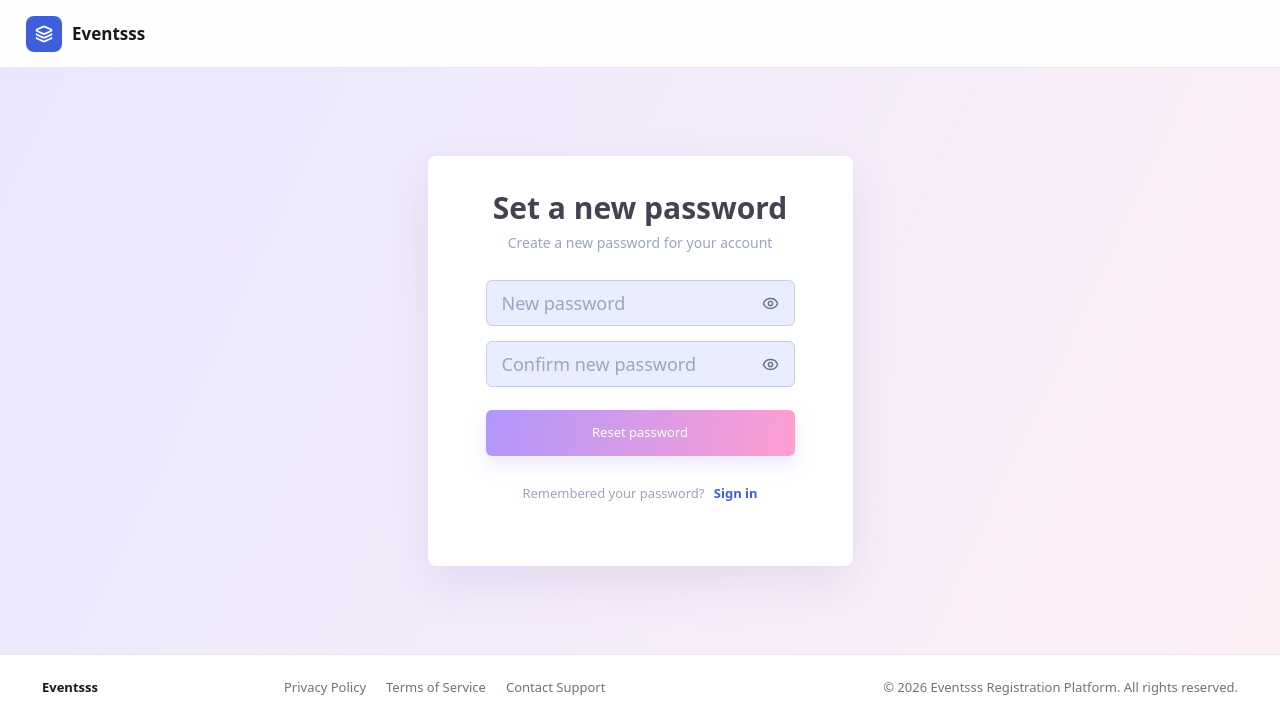
Scenario: Account Sign-up, Recovery and Role Selection › AUTH-005 resets the password from a valid link and rejects an expired one
Type "NewPassword123!" into the password field with id "new-password" at {"x": 641, "y": 303}, box [486,280,795,326]
Type "NewPassword123!" into the password field with id "confirm-new-password" at {"x": 641, "y": 364}, box [486,341,795,387]
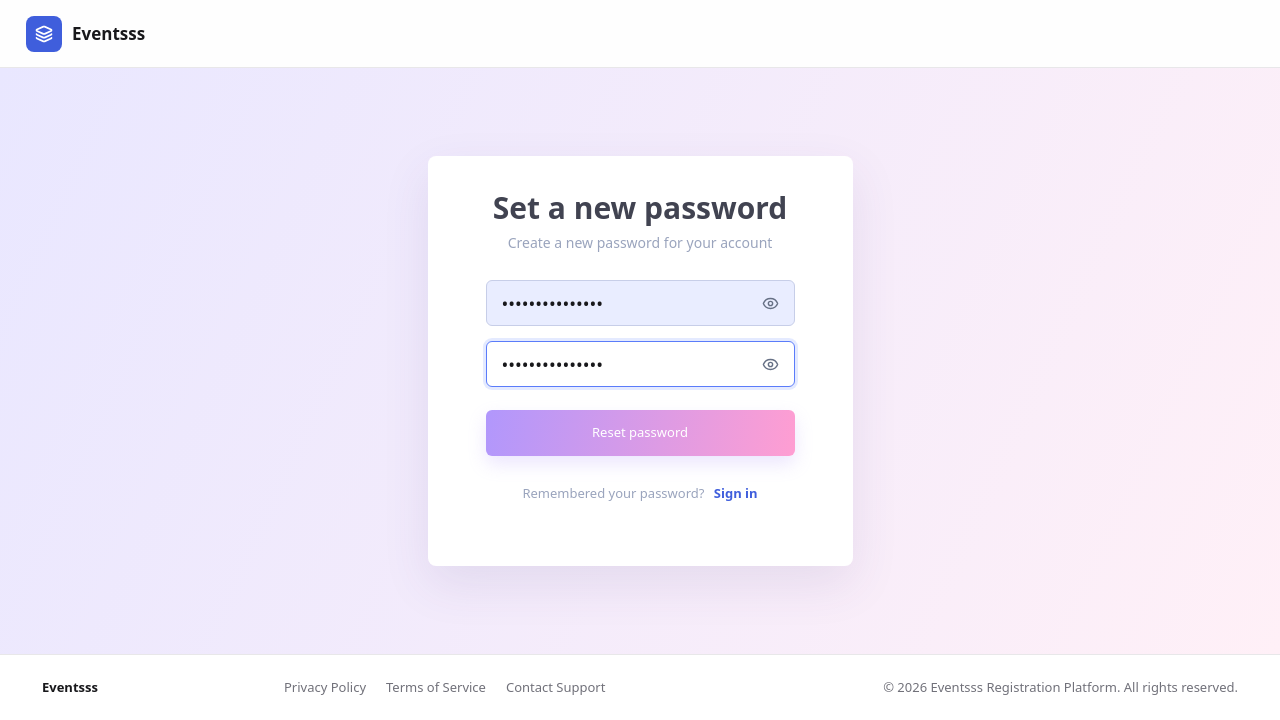
Click the submit button at {"x": 641, "y": 433}, box [486,410,795,456]
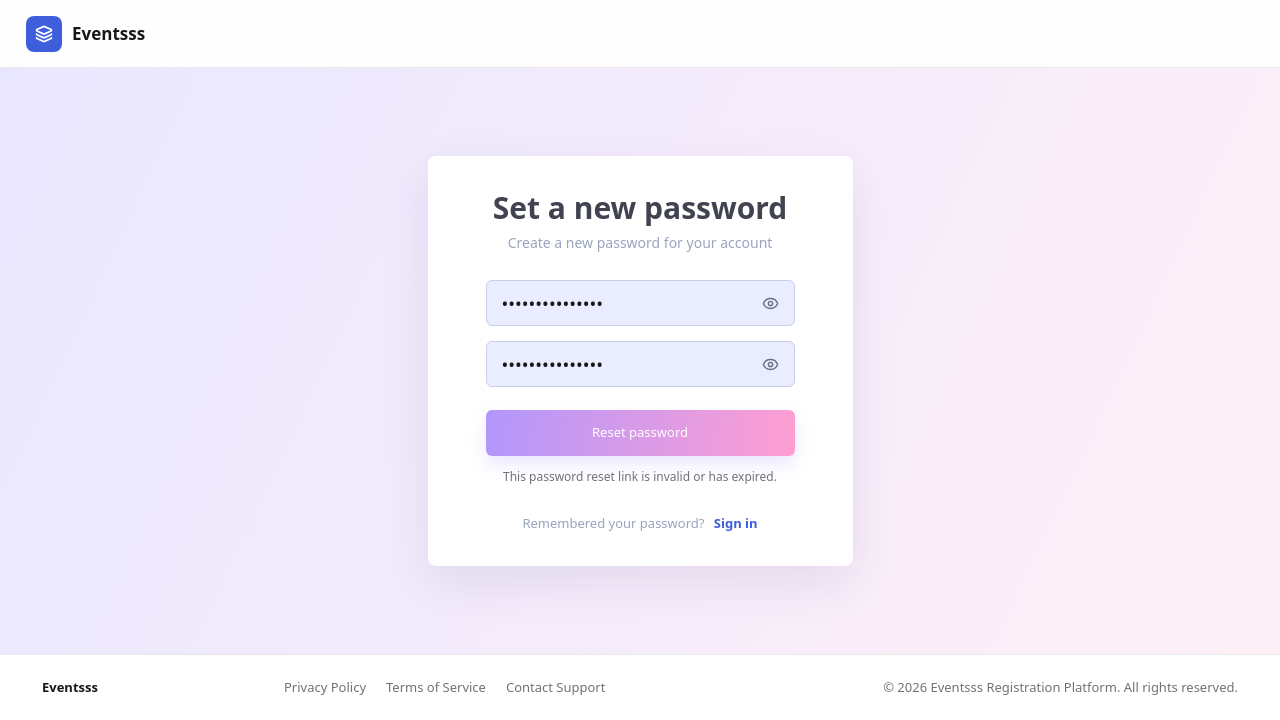
Expected: the message with class "form-status" reads "This password reset link is invalid or has expired.", [486,469,795,486]
Open "/reset-password?token=valid-token"
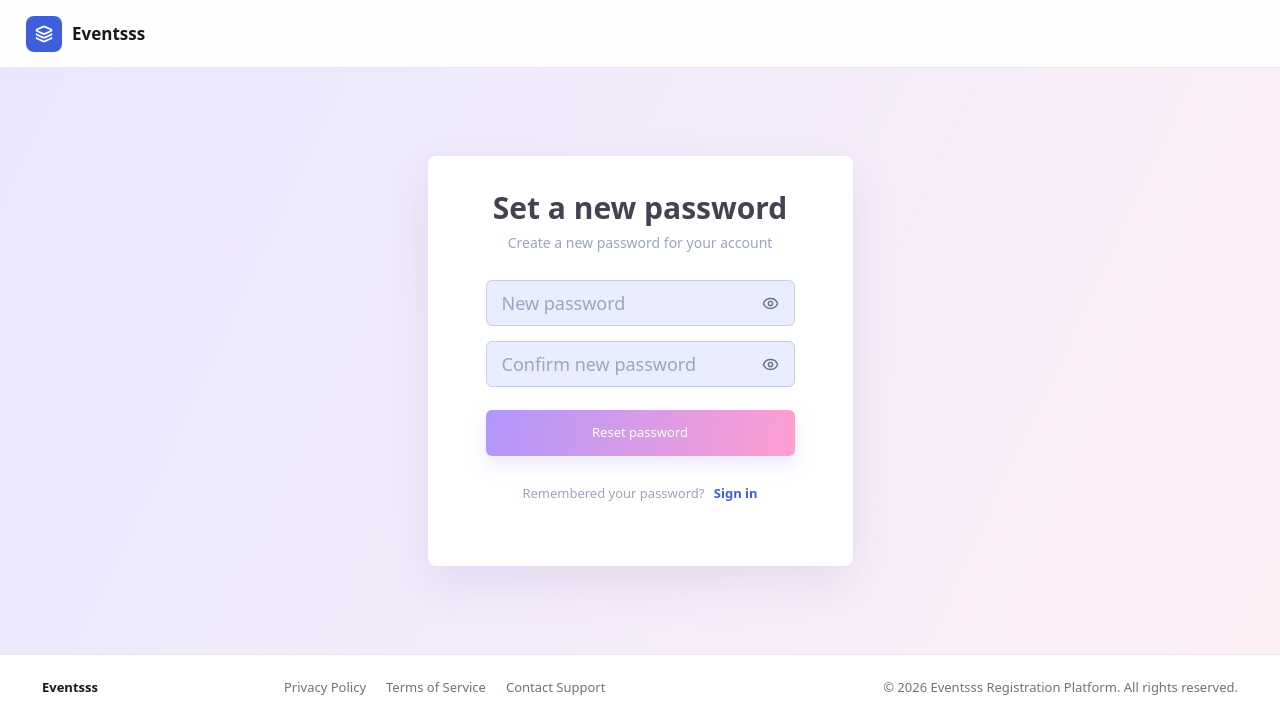
Type "NewPassword123!" into the password field with id "new-password" at {"x": 641, "y": 303}, box [486,280,795,326]
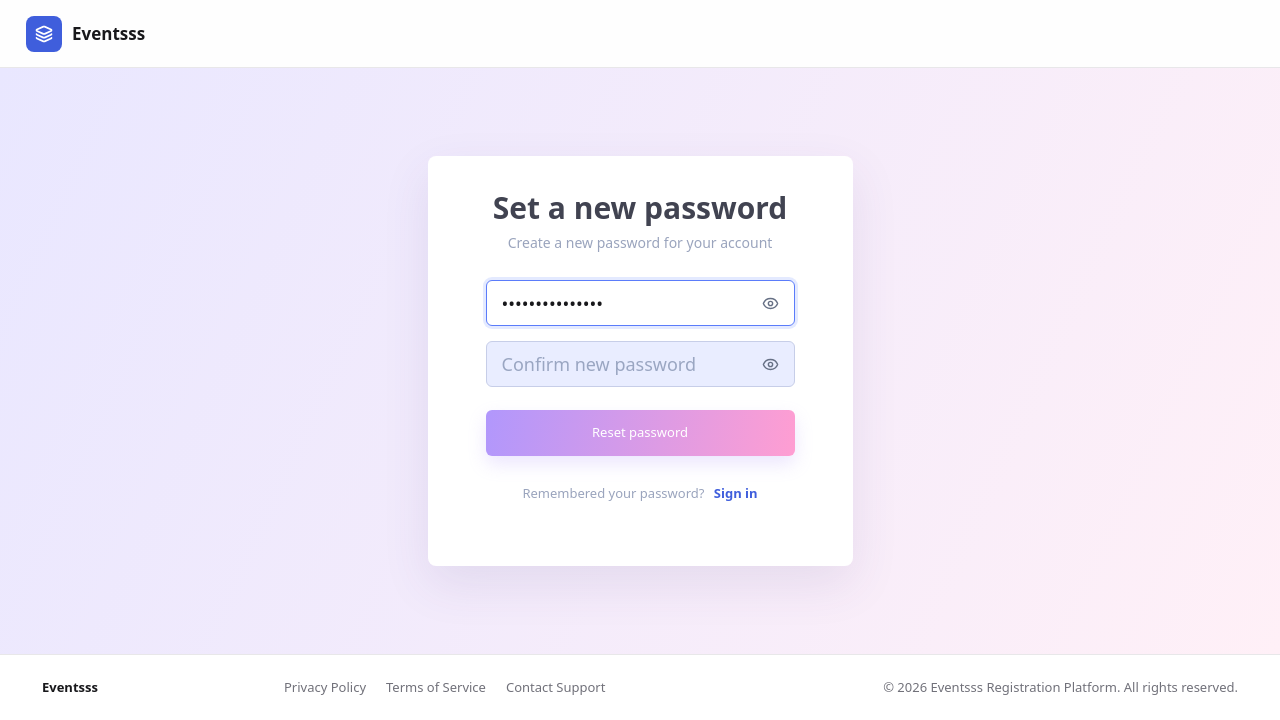
Type "NewPassword123!" into the password field with id "confirm-new-password" at {"x": 641, "y": 364}, box [486,341,795,387]
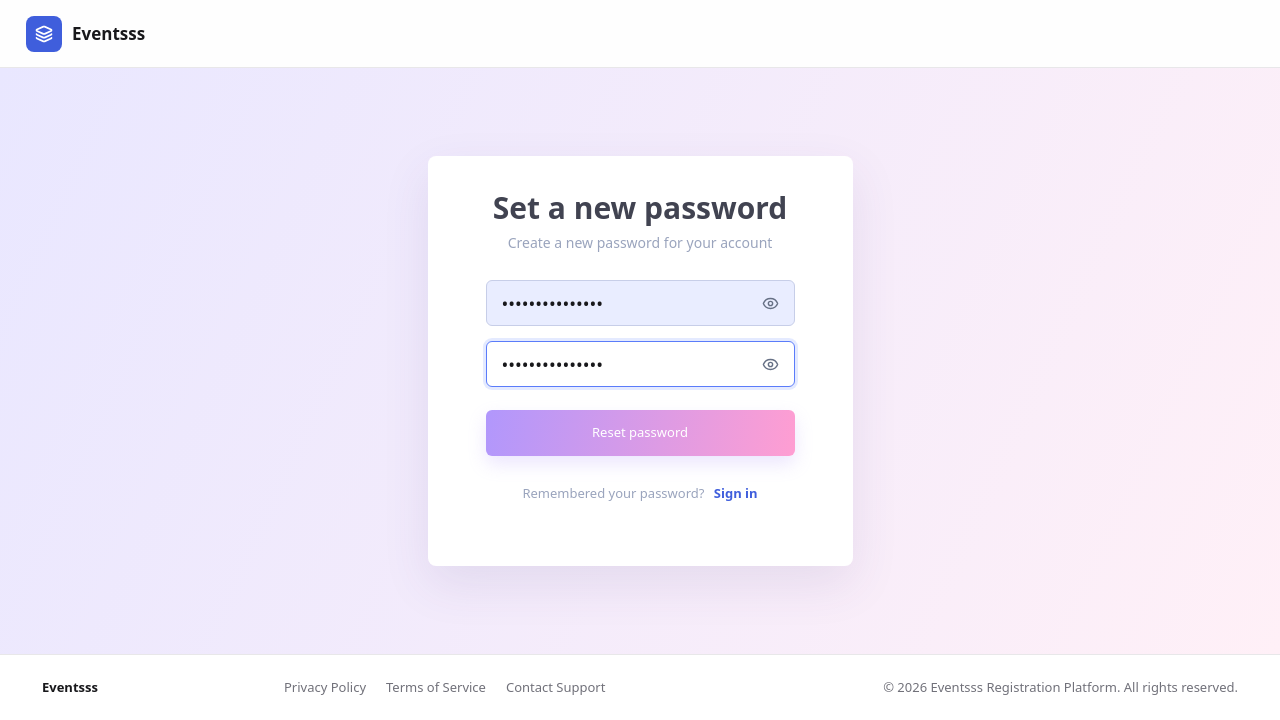
Click the submit button at {"x": 641, "y": 433}, box [486,410,795,456]
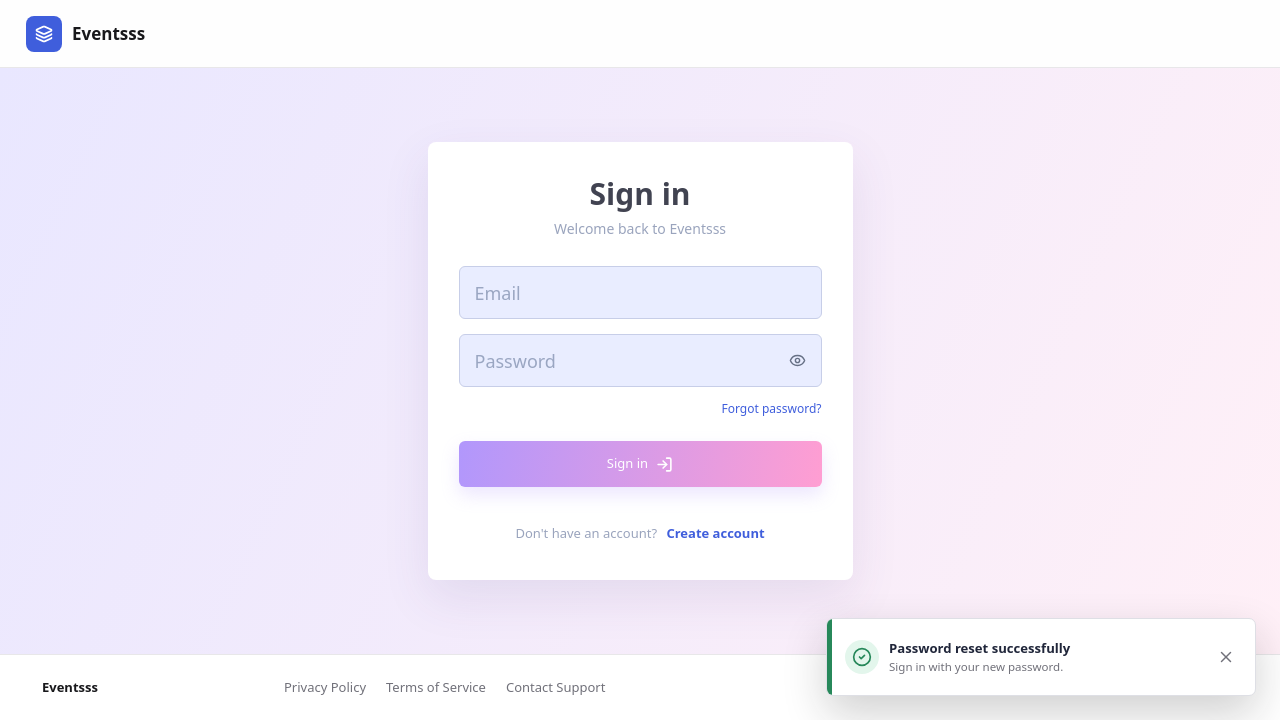
Expected: the message with class "app-toast" shows "Password reset successfully", [826,618,1256,696]
